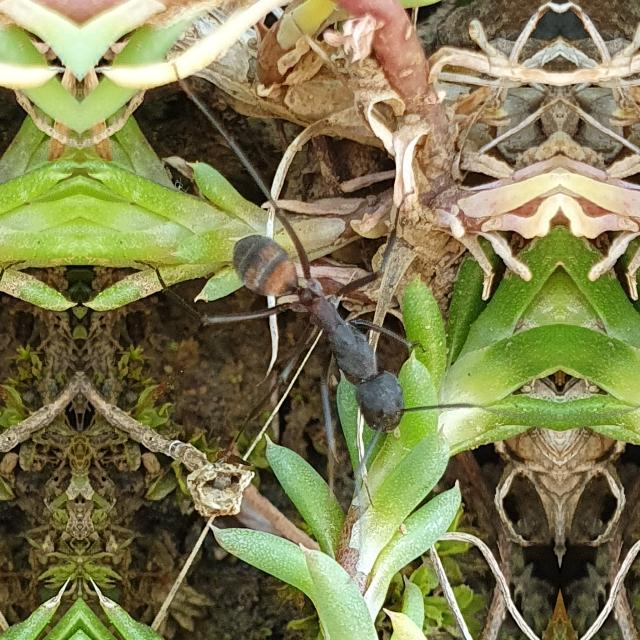Camponotus: (214, 192, 441, 462)
